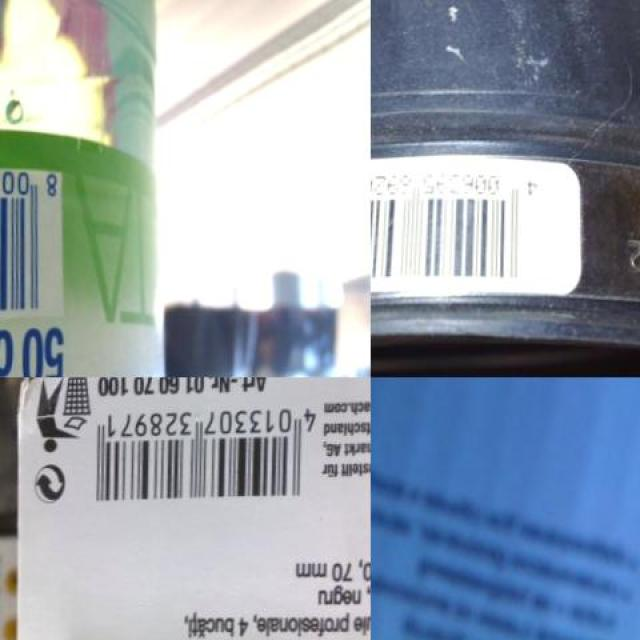Barcode: (90, 396, 322, 509), (371, 165, 548, 292), (0, 168, 67, 337)
